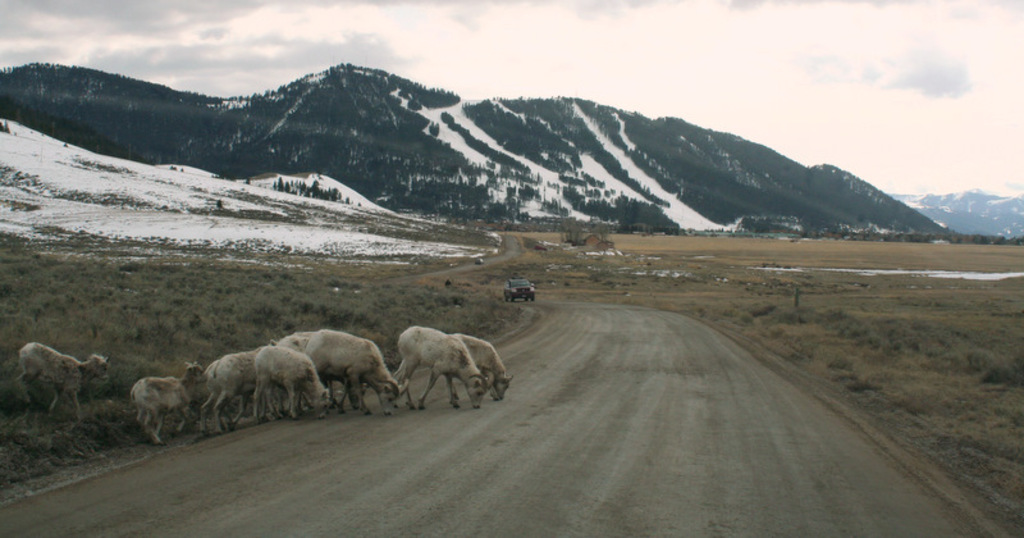sheep: (389, 322, 504, 416)
